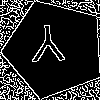Y: (29, 24, 66, 71)
